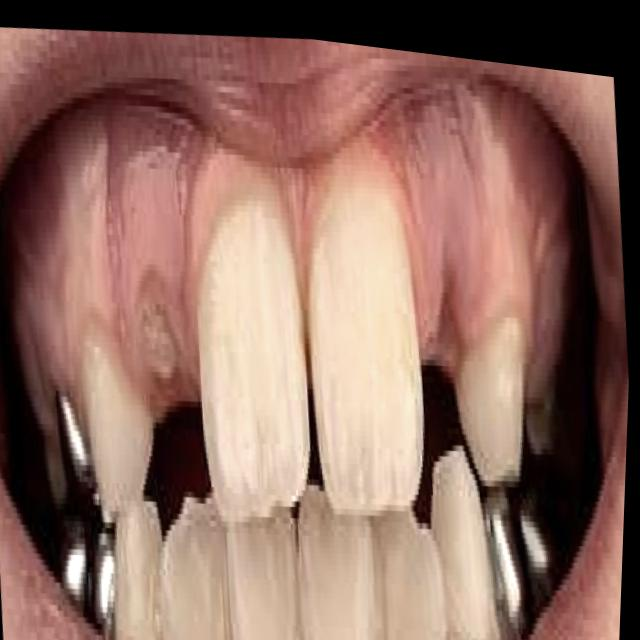cariess: (478, 320, 599, 634), (57, 390, 115, 635)
hypodontia: (113, 240, 223, 544), (397, 187, 487, 469)
